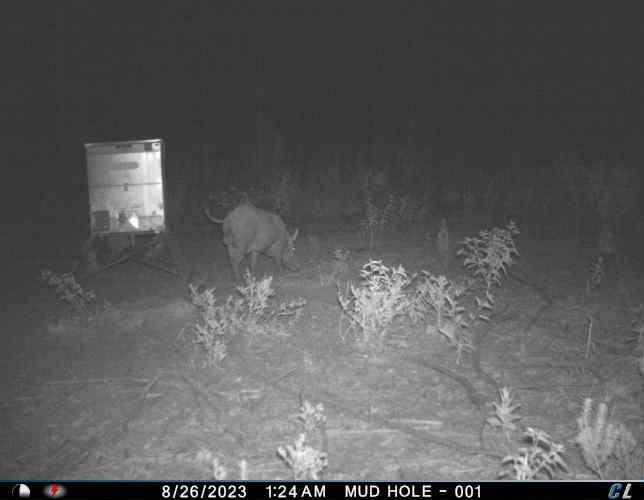Hog: (203, 199, 301, 286)
